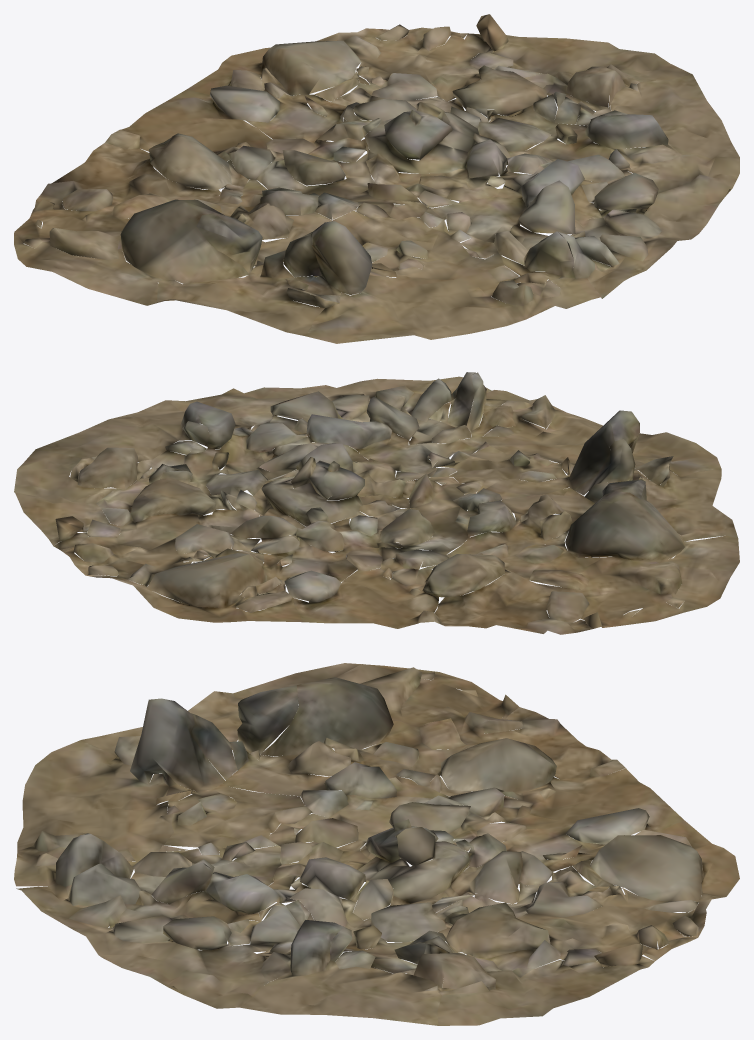
File: rock_small.glb
The picture shows the model from 3 angles, top to bottom: view 1: azimuth 30°, elevation 25°; view 2: azimuth 150°, elevation 25°; view 3: azimuth 270°, elevation 25°; orthographic projection. The views are drawn at different scales.
Visible parts, largest first — view 1: sand_rocks_small_01_LOD0; view 2: sand_rocks_small_01_LOD0; view 3: sand_rocks_small_01_LOD0.
Boxes of the visible parts, box(x1,y1,x2,y2) form: sand_rocks_small_01_LOD0: box(14, 14, 739, 343); sand_rocks_small_01_LOD0: box(14, 372, 739, 634); sand_rocks_small_01_LOD0: box(14, 663, 739, 1025).
Bounding box in the file's own units: 4.63 × 0.5333 × 3.88.
1 material, 1 textured.
